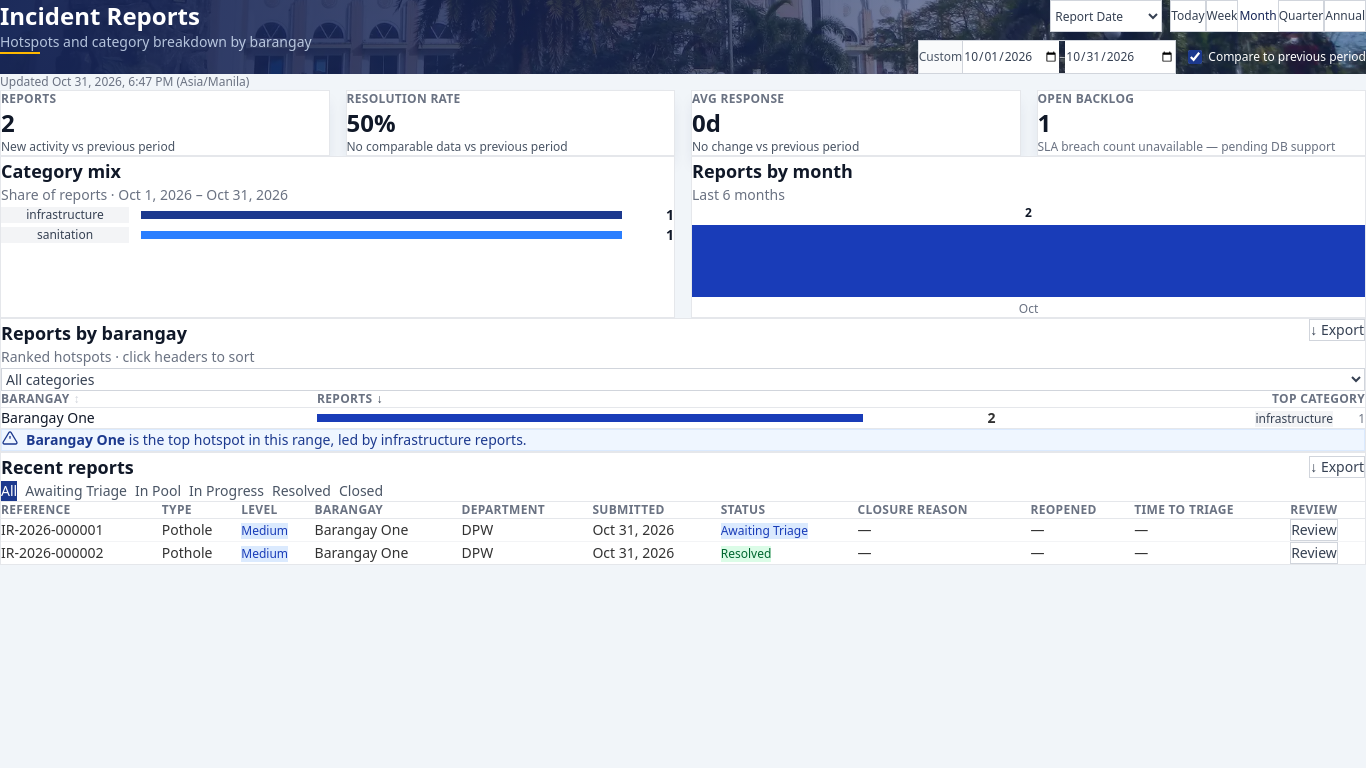
Test: IssueReportsPage › chart panels derive from listIncidents(), not mock data › the category mix panel respects the active status tab, not just raw rows
Expected: the text "infrastructure" below "Category mix" is shown, x1=26 y1=206 x2=104 y2=223
Expected: the text "sanitation" is shown, x1=1 y1=227 x2=129 y2=243
Click the tab "Awaiting Triage" at point(76, 491), box x1=25 y1=481 x2=127 y2=501
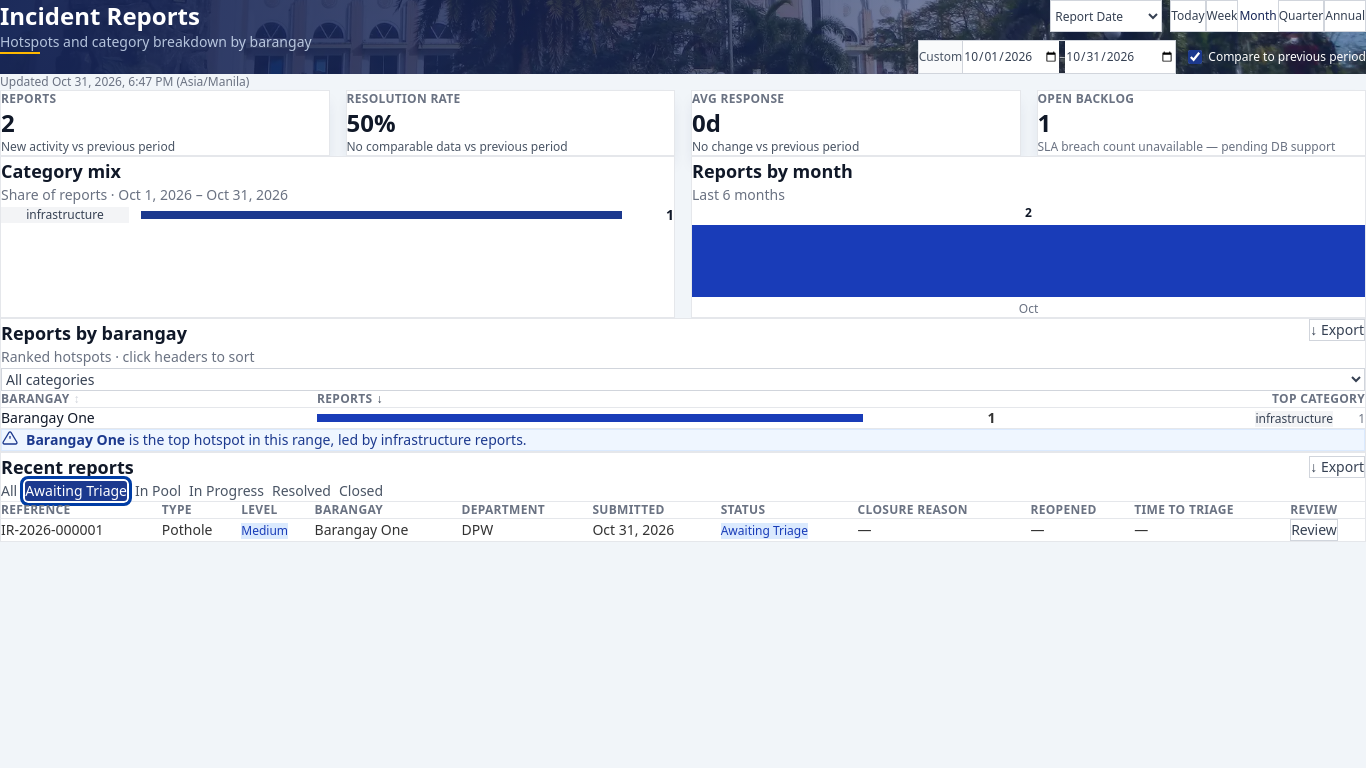
Expected: the text "infrastructure" below "Category mix" is shown, x1=26 y1=206 x2=104 y2=223
Expected: the text "sanitation" is gone
